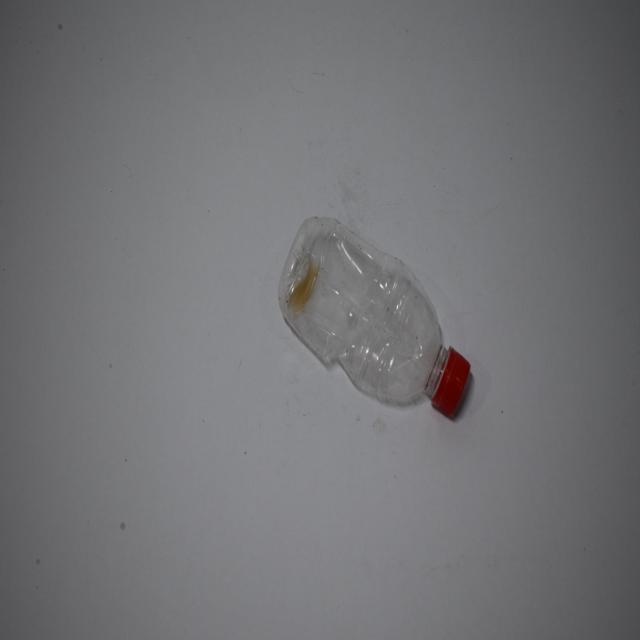bottle: (277, 204, 477, 432)
